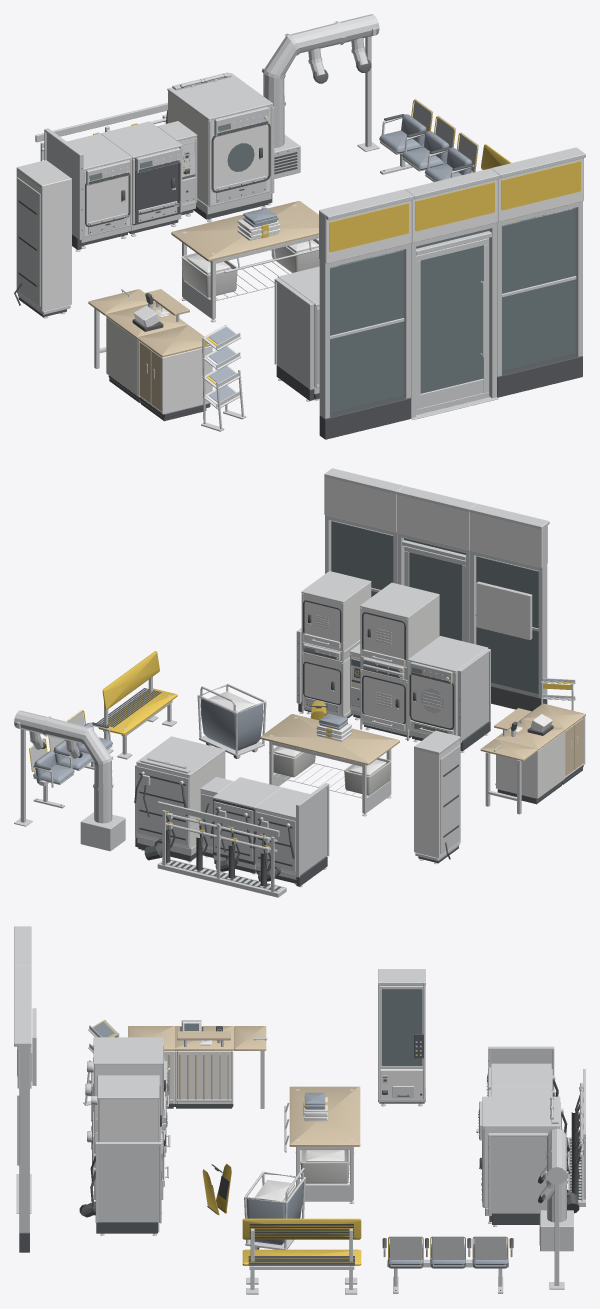
The model's file is laundrette-and-cleaning-laundrette-floor-725291ab-starter-scene__25642.glb.
The picture shows the model from 3 angles, top to bottom: view 1: azimuth 30°, elevation 25°; view 2: azimuth 150°, elevation 25°; view 3: azimuth 270°, elevation 25°; orthographic projection. The views are drawn at different scales.
Visible parts, largest first — view 1: 016-shopfront-module-glazed/2, 014-shopfront-module-glazed/2, 015-shopfront-door-module/door/glass, 018-extraction-duct-industrial/0, 004-washer-commercial-large/0, 014-shopfront-module-glazed/1, 015-shopfront-door-module/0, 004-washer-commercial-large/2, 025-detergent-vending-unit/2, 019-folding-table-island/1, 016-shopfront-module-glazed/1, 025-detergent-vending-unit/0 (+37 smaller); view 2: 018-extraction-duct-industrial/0, 004-washer-commercial-large/0, 008-tumble-dryer-stacked-pair/2, 014-shopfront-module-glazed/2, 010-stacked-washer-dryer/2, 017-service-run-water-drainage/0, 016-shopfront-module-glazed/2, 014-shopfront-module-glazed/1, 019-folding-table-island/1, 008-tumble-dryer-stacked-pair/0, 013-drop-off-counter/1, 025-detergent-vending-unit/2 (+38 smaller); view 3: 011-machine-bank-end-panel/0, 005-machine-bank-end-panel/0, 019-folding-table-island/1, 018-extraction-duct-industrial/0, 023-seating-bench-moulded/1, 024-waiting-chair-run-3/0, 013-drop-off-counter/1, 025-detergent-vending-unit/5, 004-washer-commercial-large/0, 008-tumble-dryer-stacked-pair/0, 016-shopfront-module-glazed/1, 010-stacked-washer-dryer/2 (+28 smaller).
Boxes of the visible parts, bbox=[...] form: 016-shopfront-module-glazed/2: bbox=[502, 208, 575, 371]; 014-shopfront-module-glazed/2: bbox=[330, 250, 403, 413]; 015-shopfront-door-module/door/glass: bbox=[420, 245, 482, 393]; 018-extraction-duct-industrial/0: bbox=[262, 14, 379, 178]; 004-washer-commercial-large/0: bbox=[167, 72, 272, 222]; 014-shopfront-module-glazed/1: bbox=[319, 189, 413, 418]; 015-shopfront-door-module/0: bbox=[405, 168, 499, 419]; 004-washer-commercial-large/2: bbox=[168, 91, 271, 206]; 025-detergent-vending-unit/2: bbox=[16, 171, 71, 311]; 019-folding-table-island/1: bbox=[171, 201, 318, 261]; 016-shopfront-module-glazed/1: bbox=[491, 147, 585, 376]; 025-detergent-vending-unit/0: bbox=[16, 160, 71, 318]; 018-extraction-duct-industrial/0: bbox=[14, 710, 125, 851]; 004-washer-commercial-large/0: bbox=[136, 736, 225, 862]; 008-tumble-dryer-stacked-pair/2: bbox=[361, 595, 439, 731]; 014-shopfront-module-glazed/2: bbox=[476, 556, 538, 693]; 010-stacked-washer-dryer/2: bbox=[302, 582, 370, 715]; 017-service-run-water-drainage/0: bbox=[157, 801, 286, 897]; 016-shopfront-module-glazed/2: bbox=[331, 520, 393, 596]; 014-shopfront-module-glazed/1: bbox=[469, 503, 549, 697]; 019-folding-table-island/1: bbox=[260, 714, 399, 764]; 008-tumble-dryer-stacked-pair/0: bbox=[360, 582, 439, 740]; 013-drop-off-counter/1: bbox=[496, 714, 564, 798]; 025-detergent-vending-unit/2: bbox=[414, 740, 460, 858]; 011-machine-bank-end-panel/0: bbox=[95, 1142, 161, 1235]; 005-machine-bank-end-panel/0: bbox=[488, 1133, 548, 1226]; 019-folding-table-island/1: bbox=[289, 1086, 360, 1146]; 018-extraction-duct-industrial/0: bbox=[540, 1127, 573, 1289]; 023-seating-bench-moulded/1: bbox=[242, 1218, 361, 1265]; 024-waiting-chair-run-3/0: bbox=[383, 1236, 512, 1293]; 013-drop-off-counter/1: bbox=[175, 1020, 233, 1103]; 025-detergent-vending-unit/5: bbox=[382, 989, 421, 1066]; 004-washer-commercial-large/0: bbox=[476, 1096, 563, 1223]; 008-tumble-dryer-stacked-pair/0: bbox=[87, 1037, 167, 1199]; 016-shopfront-module-glazed/1: bbox=[14, 1004, 31, 1232]; 010-stacked-washer-dryer/2: bbox=[99, 1099, 161, 1141].
Bounding box in the file's own units: 6.4 × 3 × 7.43.
